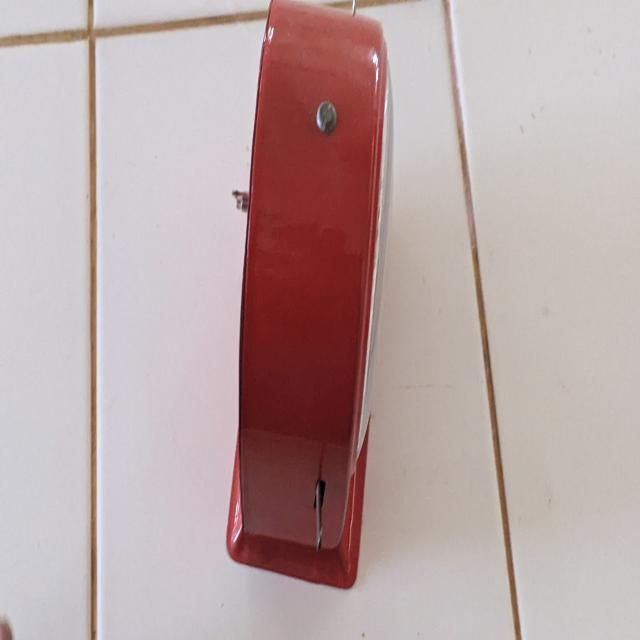Analog Stopwatch: (227, 0, 393, 594)
